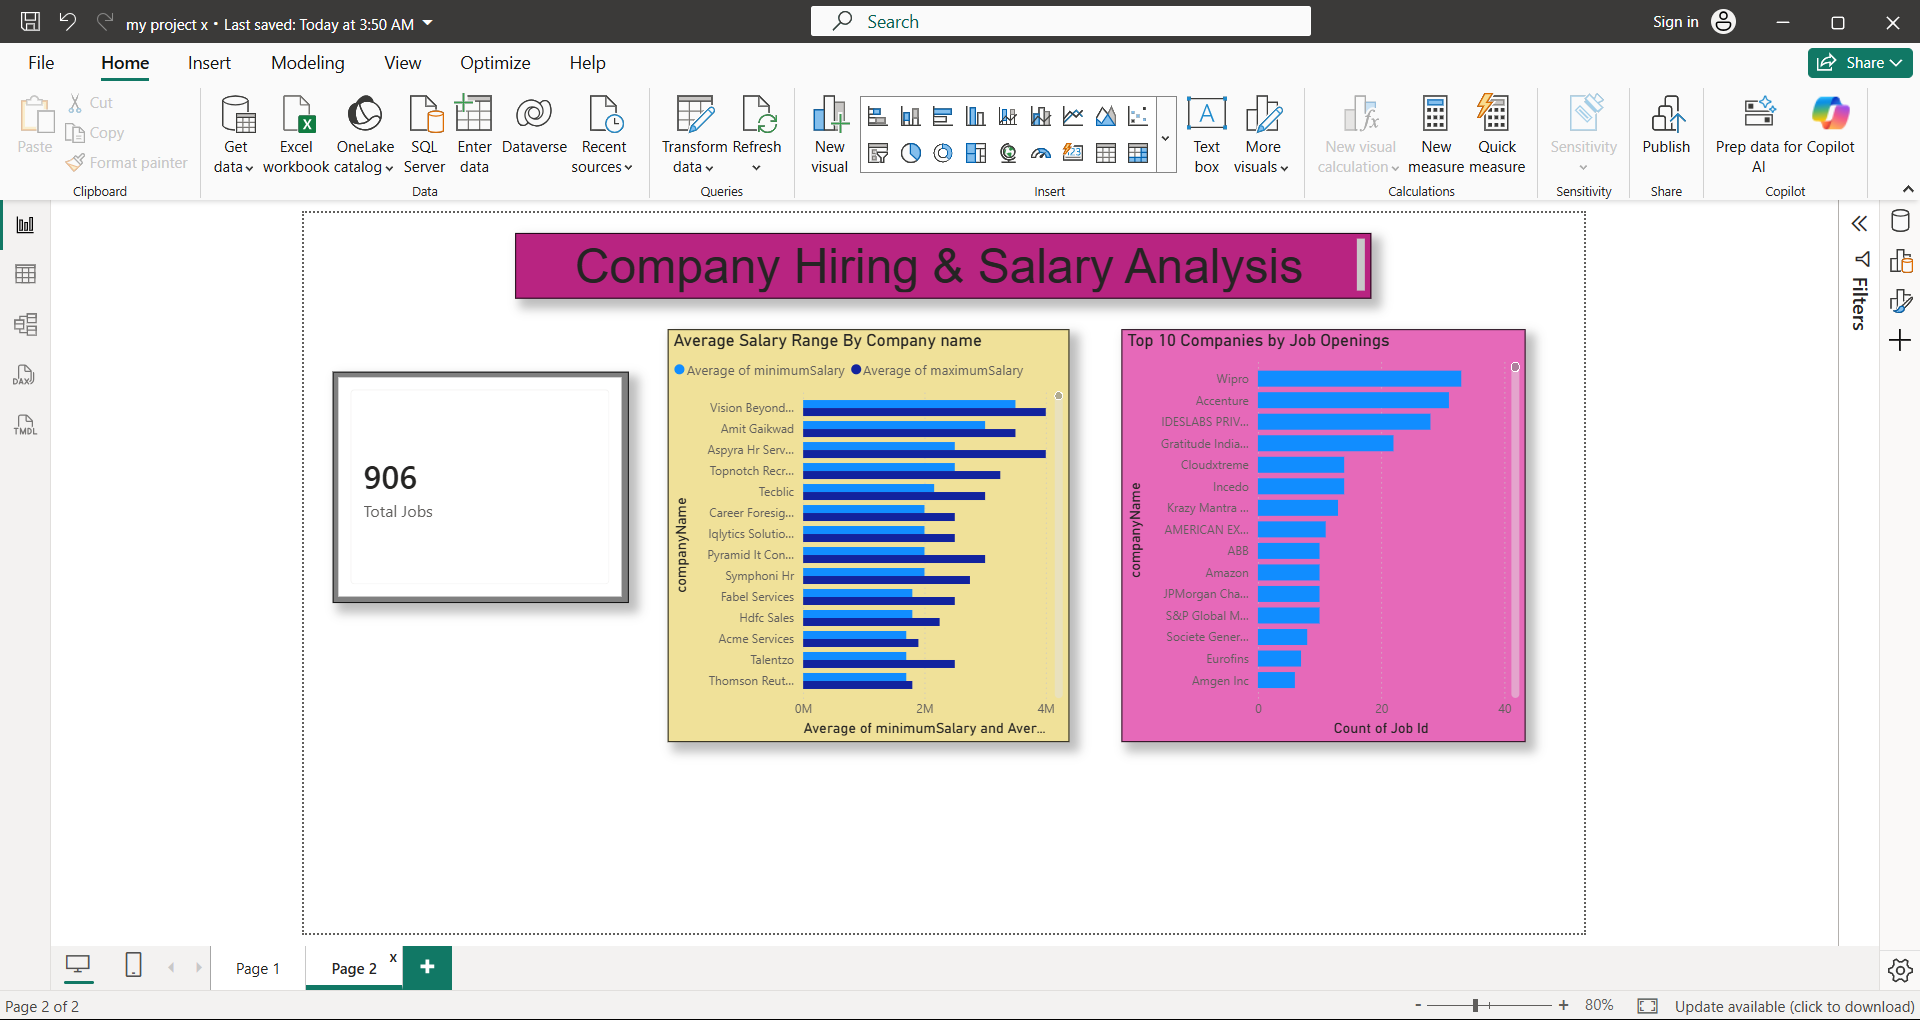

This screenshot's page, from the dashboard's own definition file:
{"tool":"powerbi","page":{"name":"Page 2","canvas":[1280,720],"ordinal":1},"visuals":[{"type":"clusteredBarChart","title":"Average Salary Range By Company name","fields":{"Category":["analytics_jobs.companyName"],"Y":["Avg(analytics_jobs.minimumSalary)","Avg(analytics_jobs.maximumSalary)"]},"box":[364.3,115.7,401.4,412.9],"z":0},{"type":"clusteredBarChart","title":"Top 10 Companies by Job Openings","fields":{"Category":["analytics_jobs.companyName"],"Y":["CountNonNull(analytics_jobs.Job Id)"]},"box":[817.1,115.7,404.3,412.9],"z":1},{"type":"cardVisual","fields":{"Data":["analytics_jobs.Total Jobs"]},"box":[28.6,158.6,295.7,231.4],"z":2},{"type":"textbox","box":[211.4,20,855.7,65.7],"z":3}]}

Visuals, with their boxes on the page's 1280x720 design canvas (x1, y1, x2, y2). These are canvas units, not pixel positions in the 1920x1020 screenshot, which may show the page scaled, cropped or inside an application window:
"Average Salary Range By Company name" clusteredBarChart: 364, 116, 766, 529
"Top 10 Companies by Job Openings" clusteredBarChart: 817, 116, 1221, 529
cardVisual - analytics_jobs.Total Jobs: 29, 159, 324, 390
textbox: 211, 20, 1067, 86
